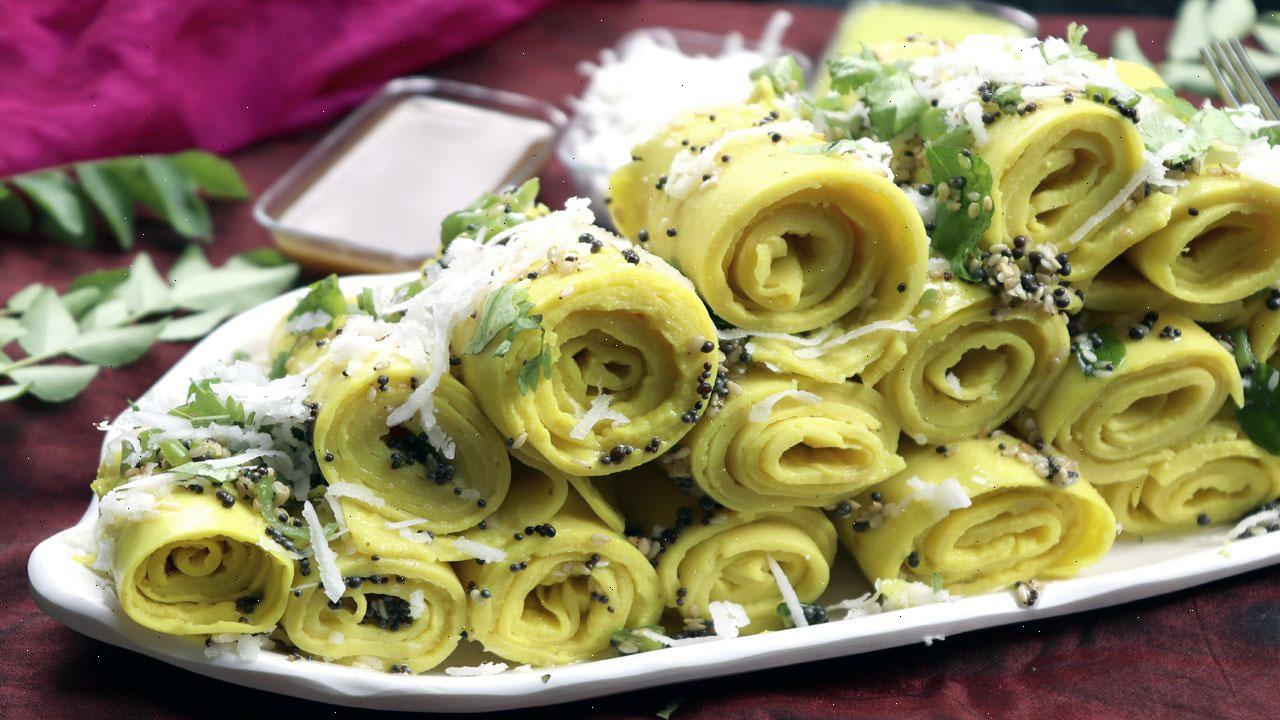khandvi: (86, 254, 1280, 674)
